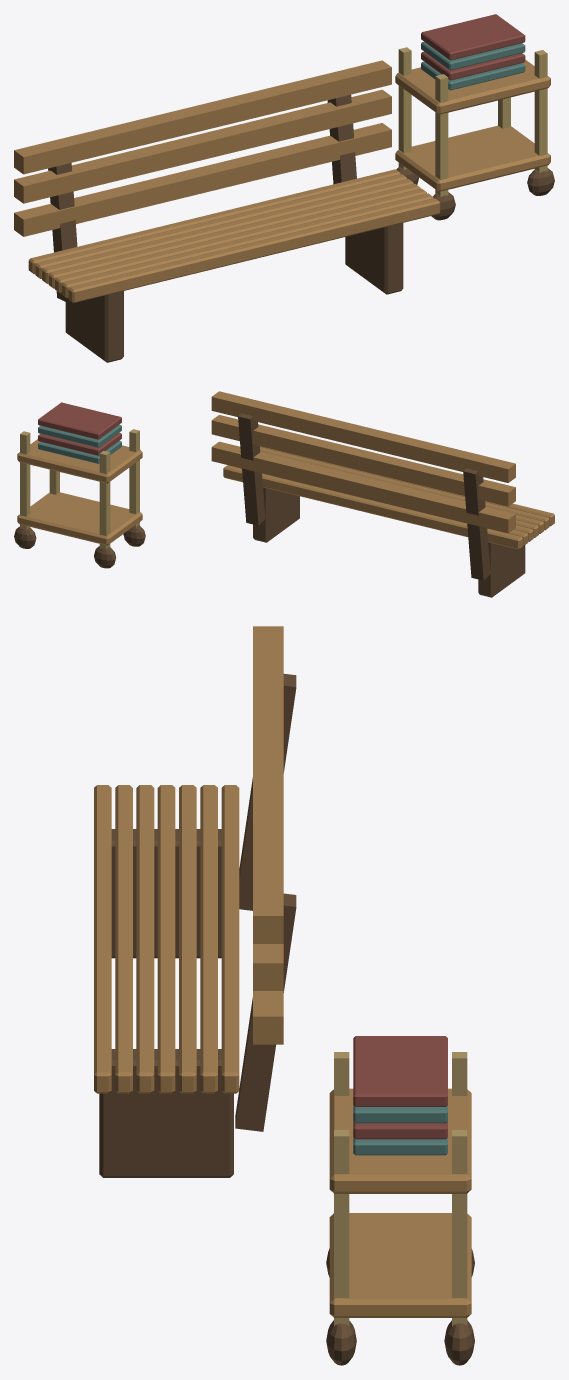
File: next_chapter-component.glb
The picture shows the model from 3 angles, top to bottom: view 1: azimuth 30°, elevation 25°; view 2: azimuth 150°, elevation 25°; view 3: azimuth 270°, elevation 25°; orthographic projection. The views are drawn at different scales.
Parts seen in each view (by area): view 1: runtime_Chapter / warm oak, runtime_Chapter / endgrain, runtime_Chapter / aged brass, runtime_Chapter / oxblood bookcloth, runtime_Chapter / muted jade roof; view 2: runtime_Chapter / warm oak, runtime_Chapter / endgrain, runtime_Chapter / aged brass, runtime_Chapter / oxblood bookcloth, runtime_Chapter / muted jade roof; view 3: runtime_Chapter / warm oak, runtime_Chapter / endgrain, runtime_Chapter / oxblood bookcloth, runtime_Chapter / aged brass, runtime_Chapter / muted jade roof.
Part boxes in pixels (x1,y1,x2,y2): runtime_Chapter / warm oak: [14, 59, 550, 303]; runtime_Chapter / endgrain: [48, 94, 554, 362]; runtime_Chapter / aged brass: [398, 47, 547, 197]; runtime_Chapter / oxblood bookcloth: [421, 14, 525, 80]; runtime_Chapter / muted jade roof: [421, 41, 525, 90]; runtime_Chapter / warm oak: [17, 391, 554, 549]; runtime_Chapter / endgrain: [14, 413, 525, 597]; runtime_Chapter / aged brass: [20, 429, 139, 549]; runtime_Chapter / oxblood bookcloth: [38, 402, 121, 455]; runtime_Chapter / muted jade roof: [38, 424, 121, 463]; runtime_Chapter / warm oak: [94, 626, 471, 1317]; runtime_Chapter / endgrain: [99, 673, 474, 1365]; runtime_Chapter / oxblood bookcloth: [353, 1036, 447, 1139]; runtime_Chapter / aged brass: [334, 1052, 467, 1326]; runtime_Chapter / muted jade roof: [353, 1105, 447, 1155].
Bounding box in the file's own units: 4.39 × 1.44 × 1.61.
